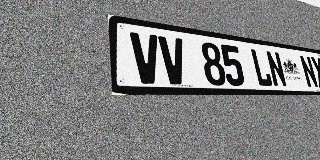5: (220, 44, 246, 86)
8: (200, 41, 227, 86)
L: (250, 48, 273, 87)
N: (265, 50, 288, 87), (299, 55, 319, 88)
V: (130, 31, 163, 84), (158, 35, 189, 85)
X: (310, 57, 320, 88)
